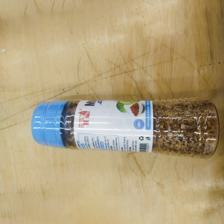TayNinh_blue: (28, 96, 220, 162)
